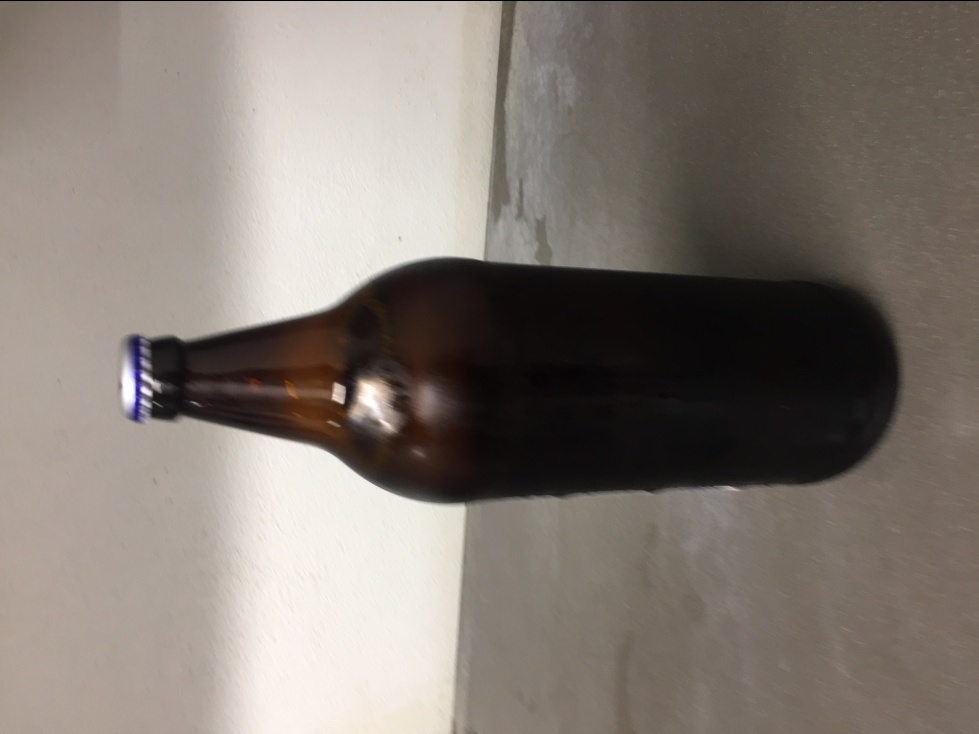tecateC: (120, 259, 903, 490)
